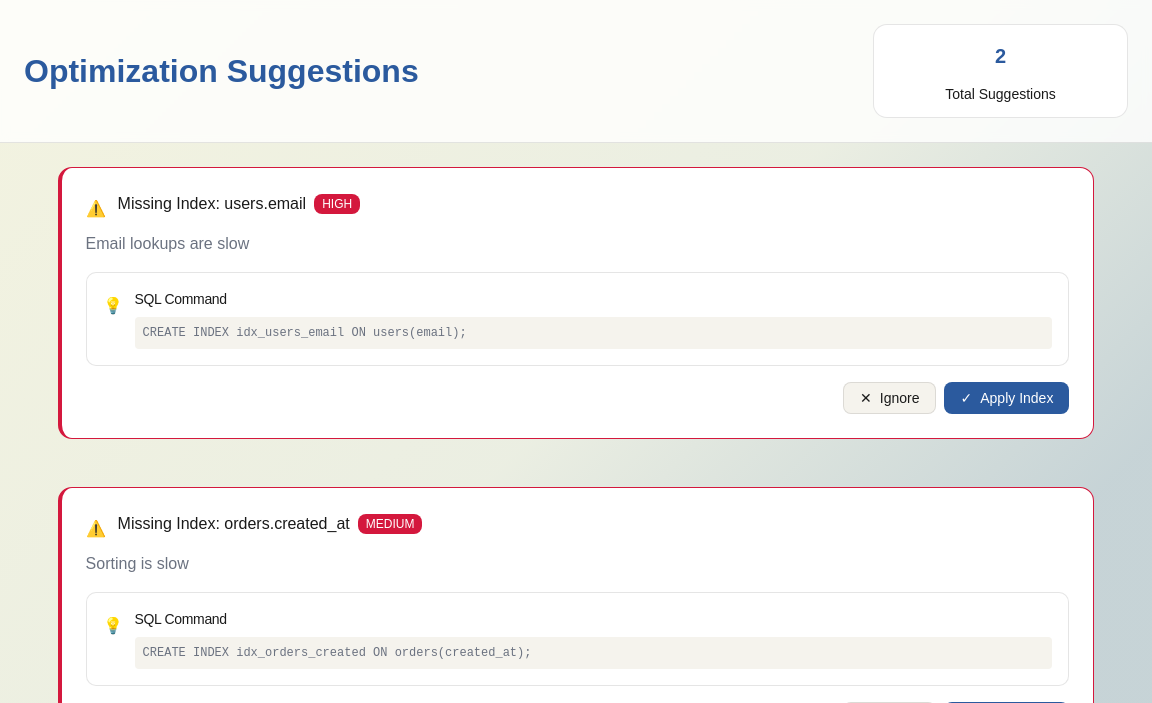
Scenario: Optimization Component › Missing Indexes › should dismiss missing index on ignore click
Expected: the text "2" is shown, x1=995 y1=38 x2=1006 y2=74
Click the 1st button "✕ Ignore": (890, 398) x1=843 y1=382 x2=936 y2=414
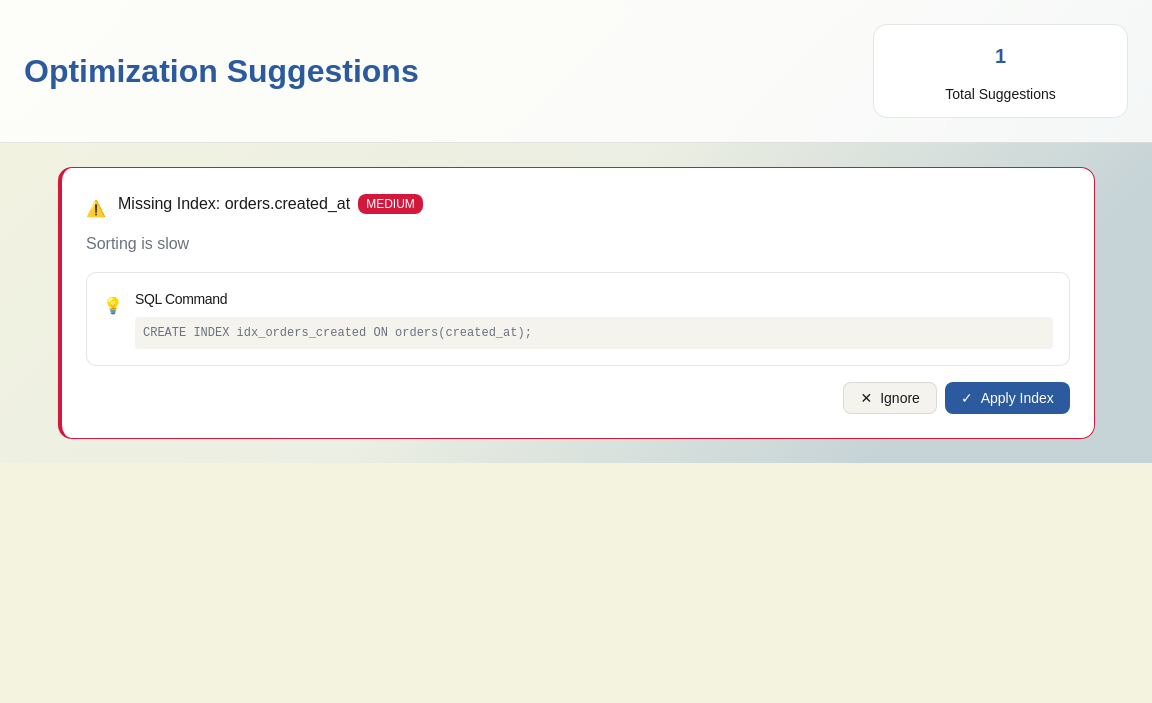
Result: the text "1" is shown at x1=995 y1=38 x2=1006 y2=74
Result: the heading "users.email" is gone
